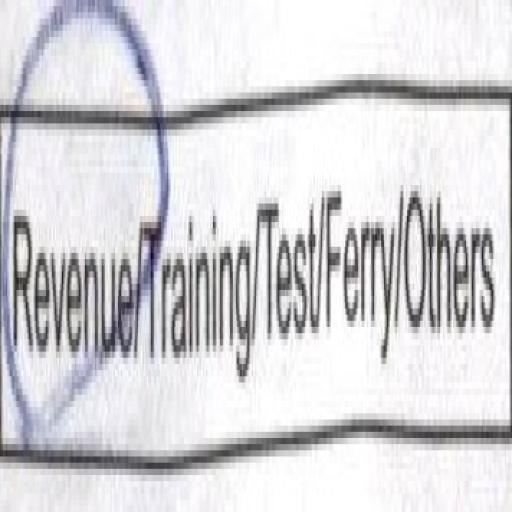check: (0, 0, 137, 473)
